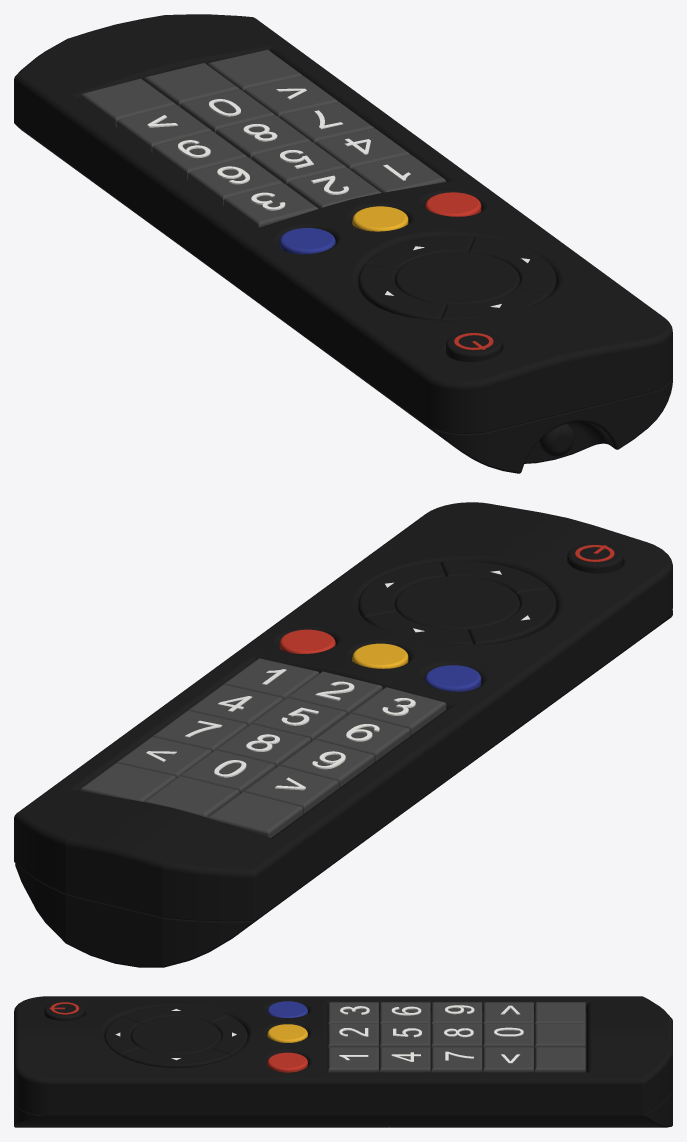
Rendered from Remote control.fbx.
3 views of the same model, one above another, from view 1: azimuth 30°, elevation 25°; view 2: azimuth 150°, elevation 25°; view 3: azimuth 270°, elevation 25° (orthographic). The views are drawn at different scales.
Visible parts, largest first — view 1: Body74, Body26, Body22, Body29, Body20, Body7, Body18, Body30, Body21, Body23, Body14, Body12 (+14 smaller); view 2: Body74, Body26, Body22, Body29, Body20, Body7, Body18, Body30, Body14, Body21, Body23, Body12 (+13 smaller); view 3: Body74, Body26, Body30, Body14, Body15, Body12, Body8, Body13, Body18, Body29, Body19, Body4 (+14 smaller).
Part boxes in pixels (<box>): Body74: <box>14,14,672,473</box>; Body26: <box>395,252,519,305</box>; Body22: <box>80,78,175,127</box>; Body29: <box>358,264,446,320</box>; Body20: <box>116,104,211,153</box>; Body7: <box>223,183,318,228</box>; Body18: <box>144,63,239,106</box>; Body30: <box>469,237,556,294</box>; Body21: <box>188,157,282,205</box>; Body23: <box>152,131,246,179</box>; Body14: <box>207,49,302,90</box>; Body12: <box>243,76,338,116</box>; Body74: <box>14,502,672,967</box>; Body26: <box>395,576,519,629</box>; Body22: <box>208,791,303,837</box>; Body29: <box>468,588,556,644</box>; Body20: <box>244,765,338,813</box>; Body7: <box>351,687,446,735</box>; Body18: <box>145,776,239,817</box>; Body30: <box>358,561,445,619</box>; Body14: <box>80,763,176,801</box>; Body21: <box>315,713,410,761</box>; Body23: <box>279,739,374,787</box>; Body12: <box>117,736,211,777</box>; Body74: <box>14,996,672,1127</box>; Body26: <box>131,1016,221,1054</box>; Body30: <box>121,1048,230,1067</box>; Body14: <box>535,1047,585,1072</box>; Body15: <box>431,1047,482,1072</box>; Body12: <box>483,1047,533,1072</box>; Body8: <box>328,1047,378,1072</box>; Body13: <box>380,1047,430,1072</box>; Body18: <box>535,1024,585,1047</box>; Body29: <box>122,1005,230,1023</box>; Body19: <box>431,1024,482,1047</box>; Body4: <box>328,1024,378,1047</box>.
Size of the model in its own units: 20 by 9.34 by 65.
